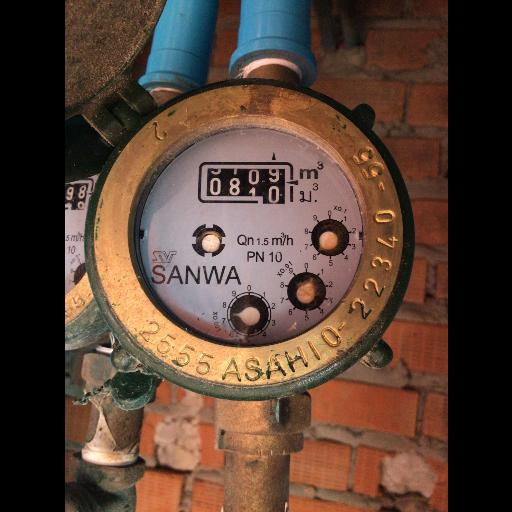0: (244, 168, 263, 197), (207, 168, 225, 196)
8: (225, 168, 243, 197)
9: (263, 168, 286, 204)
border_water_meter_number: (198, 161, 299, 204)
